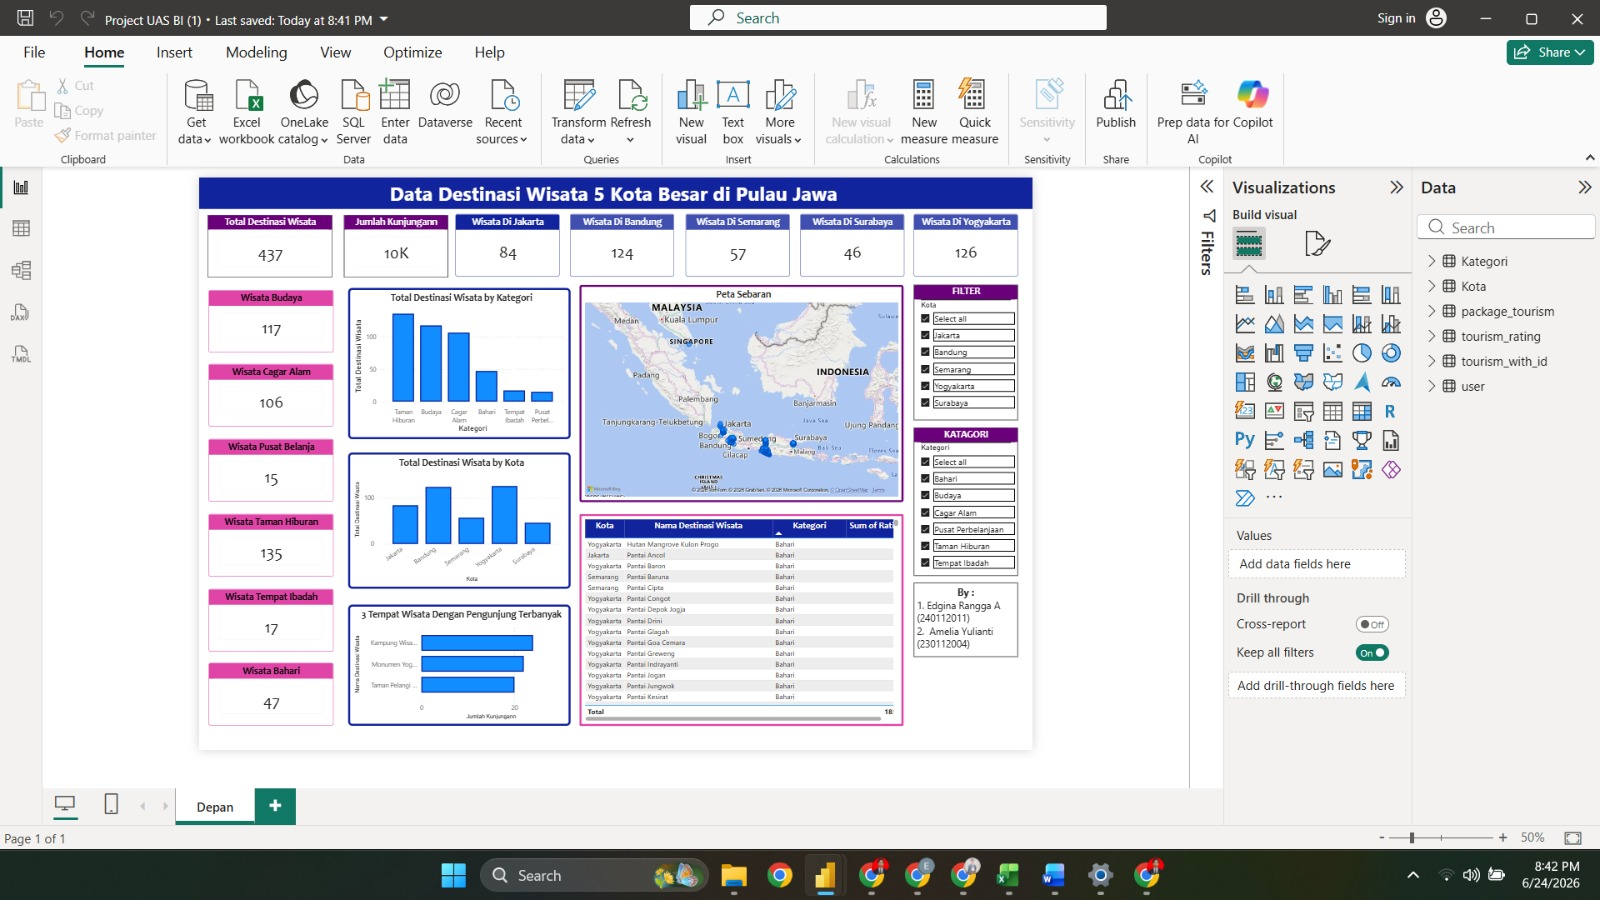

The dashboard page shown, as its layout file describes it:
{"tool":"powerbi","page":{"name":"Depan","canvas":[1600,1100],"ordinal":0},"visuals":[{"type":"shape","box":[0,0,1600,60.3],"z":0},{"type":"textbox","box":[0,0,1592,60],"z":1000},{"type":"slicer","title":"KATAGORI","fields":{"Values":["Kategori.Kategori"]},"box":[1372.5,480,200,285],"z":2000},{"type":"cardVisual","title":"Wisata Di Jakarta","fields":{"Data":["tourism_with_id.Jjumlah Wisata di Jakarta"]},"box":[492,70.6,200,120],"z":3000},{"type":"cardVisual","title":"Wisata Di Bandung","fields":{"Data":["package_tourism.Jumlah Wisata di Banduhg"]},"box":[712,70.6,200,120],"z":4000},{"type":"cardVisual","title":"Wisata Di Semarang ","fields":{"Data":["package_tourism.Jumlah Wisata di Semarang"]},"box":[933.1,70.6,200,120],"z":5000},{"type":"cardVisual","title":"Wisata Di Surabaya","fields":{"Data":["package_tourism.Jumlah Wisata di Surabaya"]},"box":[1153.1,70.6,200,120],"z":6000},{"type":"cardVisual","title":"Wisata Di Yogyakarta","fields":{"Data":["package_tourism.Jumlah Wisata di Yogyakarta"]},"box":[1372,70.4,200,120],"z":7000},{"type":"cardVisual","title":"Wisata Bahari","fields":{"Data":["package_tourism.Wisata Bahari"]},"box":[17.5,932.5,240,120],"z":8000},{"type":"cardVisual","title":"Wisata Budaya","fields":{"Data":["package_tourism.Wisata Budaya"]},"box":[17.5,215,240,120],"z":9000},{"type":"cardVisual","title":"Wisata Cagar Alam","fields":{"Data":["package_tourism.Wisata Cagar Alam"]},"box":[17.5,358.5,240,120],"z":10000},{"type":"cardVisual","title":"Wisata Pusat Belanja","fields":{"Data":["package_tourism.Wisata Pusat Perbelanjaan"]},"box":[17.5,502,240,120],"z":11000},{"type":"cardVisual","title":"Wisata Taman Hiburan","fields":{"Data":["package_tourism.Wisata Taman Hiburan"]},"box":[17.5,645.5,240,120],"z":12000},{"type":"cardVisual","title":"Wisata Tempat Ibadah","fields":{"Data":["package_tourism.Wisata Tempat Ibadah"]},"box":[17.5,789,240,120],"z":13000},{"type":"cardVisual","title":"Total Destinasi Wisata","fields":{"Data":["package_tourism.Total Destinasi Wisata"]},"box":[16.7,71.7,240,120],"z":14000},{"type":"slicer","title":"FILTER ","fields":{"Values":["Kota.Kota"]},"box":[1372.5,205,200,260],"z":15000},{"type":"tableEx","fields":{"Values":["Kota.Kota","tourism_with_id.Place_Name","Kategori.Kategori","Sum(tourism_with_id.Rating)"]},"box":[730,645,622.5,407.5],"z":16000},{"type":"clusteredColumnChart","fields":{"Y":["package_tourism.Total Destinasi Wisata"],"Category":["Kategori.Kategori"]},"box":[285,212.5,427.5,290],"z":17000},{"type":"clusteredColumnChart","fields":{"Y":["package_tourism.Total Destinasi Wisata"],"Category":["Kota.Kota"]},"box":[285,527.5,427.5,261.2],"z":18000},{"type":"cardVisual","title":"Jumlah Kunjungann ","fields":{"Data":["tourism_rating.Jumlah Kunjungann"]},"box":[278,72,200,120],"z":19000},{"type":"clusteredBarChart","title":"3 Tempat Wisata Dengan Pengunjung Terbanyak","fields":{"Y":["tourism_rating.Jumlah Kunjungann"],"Category":["tourism_with_id.Nama Destinasi Wisata"]},"box":[285,820,427.5,232.5],"z":20000},{"type":"map","title":"Peta Sebaran","fields":{"Y":["tourism_with_id.Lat"],"X":["tourism_with_id.Long"]},"box":[730,205,622.5,417.5],"z":21000},{"type":"textbox","box":[1372,778,200,142],"z":22000}]}

Visuals, with their boxes on the page's 1600x1100 design canvas (x1, y1, x2, y2). These are canvas units, not pixel positions in the 1600x900 screenshot, which may show the page scaled, cropped or inside an application window:
shape: (0,0,1600,60)
textbox: (0,0,1592,60)
"KATAGORI" slicer: (1372,480,1572,765)
"Wisata Di Jakarta" cardVisual: (492,71,692,191)
"Wisata Di Bandung" cardVisual: (712,71,912,191)
"Wisata Di Semarang " cardVisual: (933,71,1133,191)
"Wisata Di Surabaya" cardVisual: (1153,71,1353,191)
"Wisata Di Yogyakarta" cardVisual: (1372,70,1572,190)
"Wisata Bahari" cardVisual: (18,932,258,1052)
"Wisata Budaya" cardVisual: (18,215,258,335)
"Wisata Cagar Alam" cardVisual: (18,358,258,478)
"Wisata Pusat Belanja" cardVisual: (18,502,258,622)
"Wisata Taman Hiburan" cardVisual: (18,646,258,766)
"Wisata Tempat Ibadah" cardVisual: (18,789,258,909)
"Total Destinasi Wisata" cardVisual: (17,72,257,192)
"FILTER " slicer: (1372,205,1572,465)
tableEx - Kota.Kota x tourism_with_id.Place_Name: (730,645,1352,1052)
clusteredColumnChart - package_tourism.Total Destinasi Wisata x Kategori.Kategori: (285,212,712,502)
clusteredColumnChart - package_tourism.Total Destinasi Wisata x Kota.Kota: (285,528,712,789)
"Jumlah Kunjungann " cardVisual: (278,72,478,192)
"3 Tempat Wisata Dengan Pengunjung Terbanyak" clusteredBarChart: (285,820,712,1052)
"Peta Sebaran" map: (730,205,1352,622)
textbox: (1372,778,1572,920)
